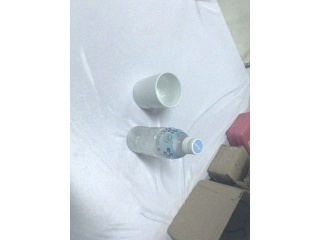bottle: (126, 125, 204, 159)
box: (208, 145, 250, 189)
cup: (132, 72, 182, 109)
